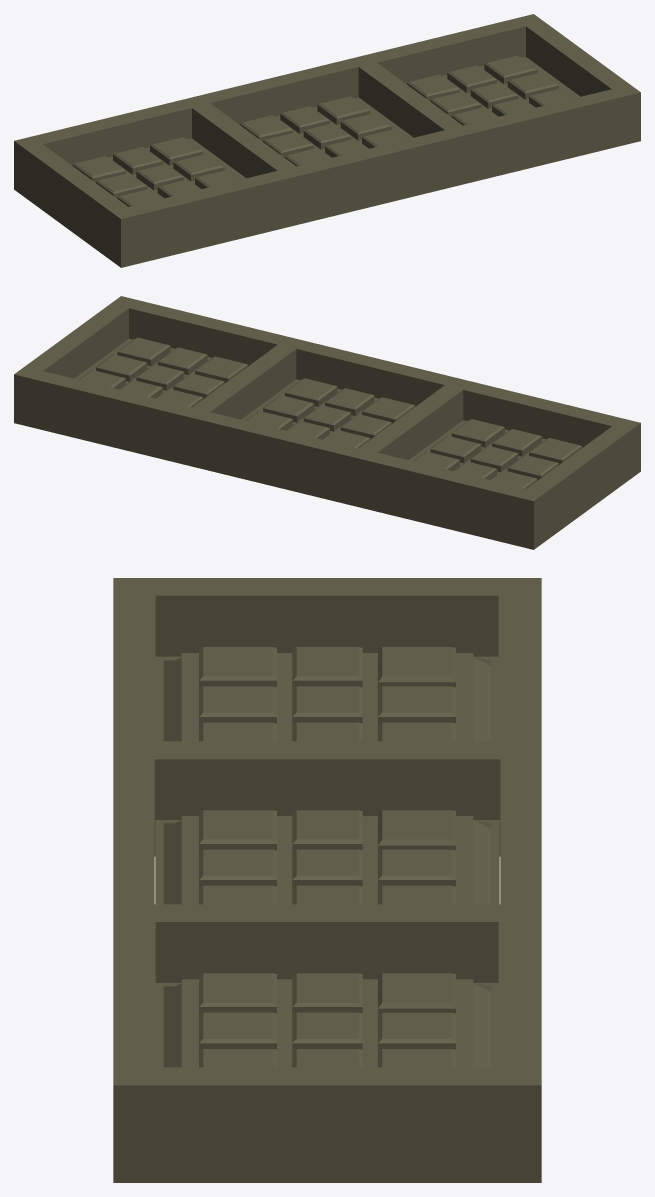
The model's file is ceiling middle.fbx.
3 renders of one model, top to bottom at view 1: azimuth 30°, elevation 25°; view 2: azimuth 150°, elevation 25°; view 3: azimuth 270°, elevation 25°, orthographic. The views are drawn at different scales.
Visible parts, largest first — view 1: CIELING; view 2: CIELING; view 3: CIELING.
Part boxes in pixels (box(x1,y1,x2,y2)): CIELING: box(14, 14, 640, 267); CIELING: box(14, 296, 640, 549); CIELING: box(113, 578, 541, 1182).
Size of the model in its own units: 22432 by 2008 by 8009.
